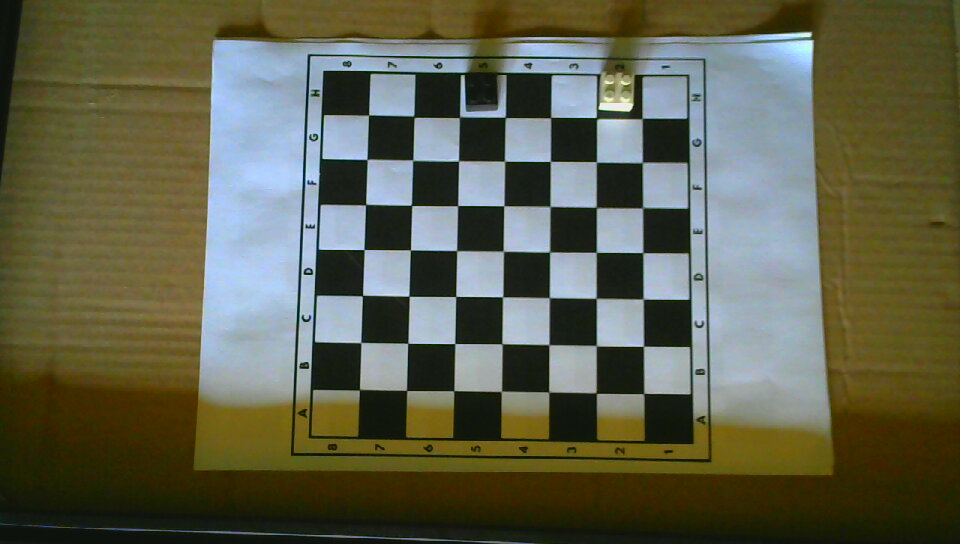bp: (463, 71, 499, 111)
wp: (598, 71, 634, 112)
